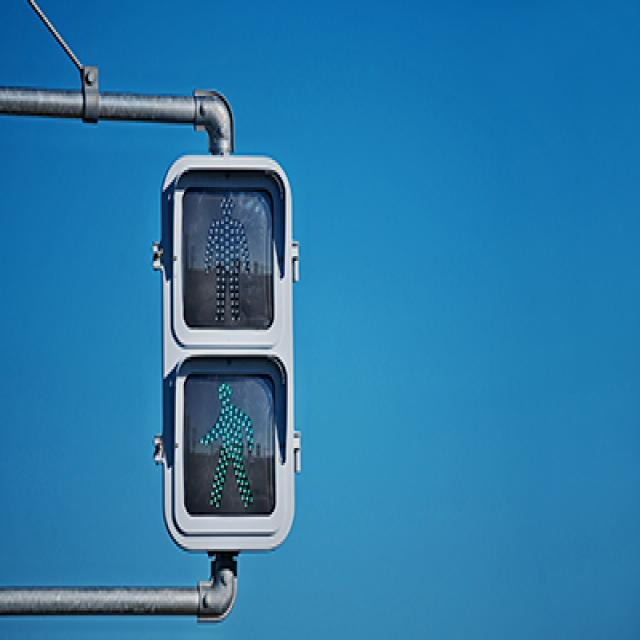trafficlight: (158, 160, 294, 544)
